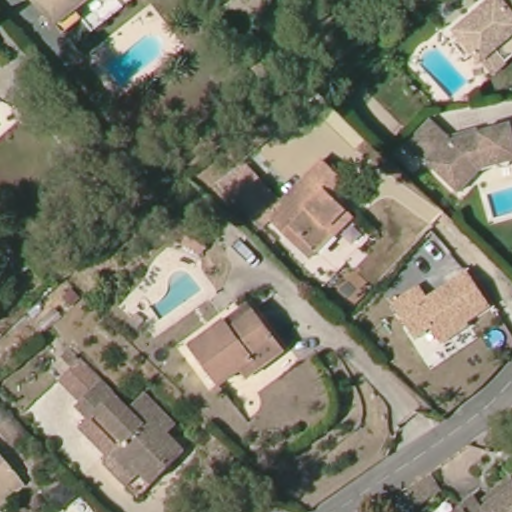pool: (94, 30, 170, 94), (144, 268, 204, 322), (414, 47, 469, 98), (481, 185, 512, 220), (481, 325, 512, 351)
